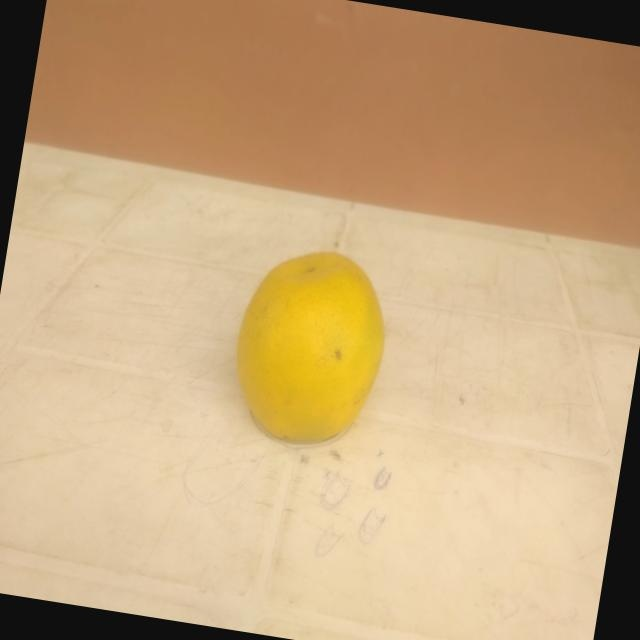agrume: (202, 211, 422, 490)
